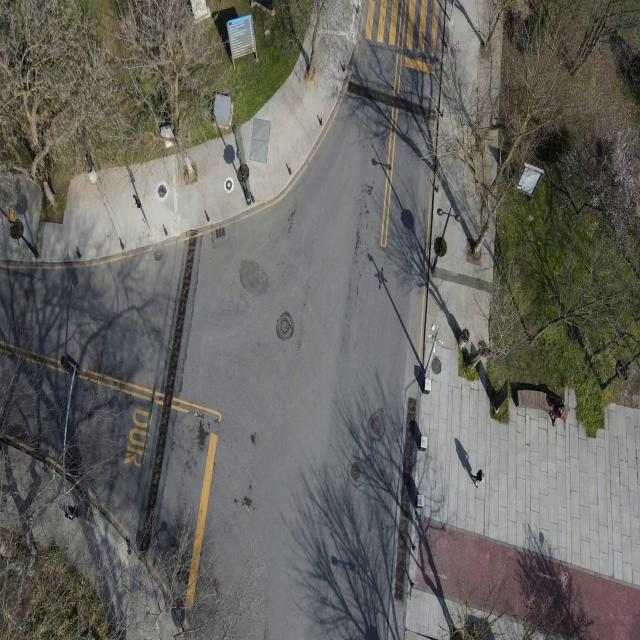p3rson: (551, 401, 564, 427), (472, 469, 484, 488)
